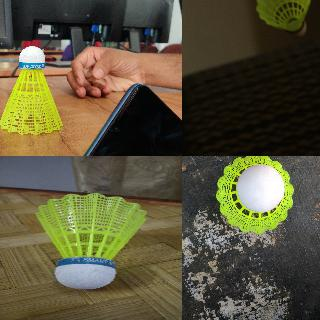shuttlecock: (35, 192, 147, 289), (213, 156, 295, 232), (0, 45, 63, 135), (255, 0, 311, 36)
